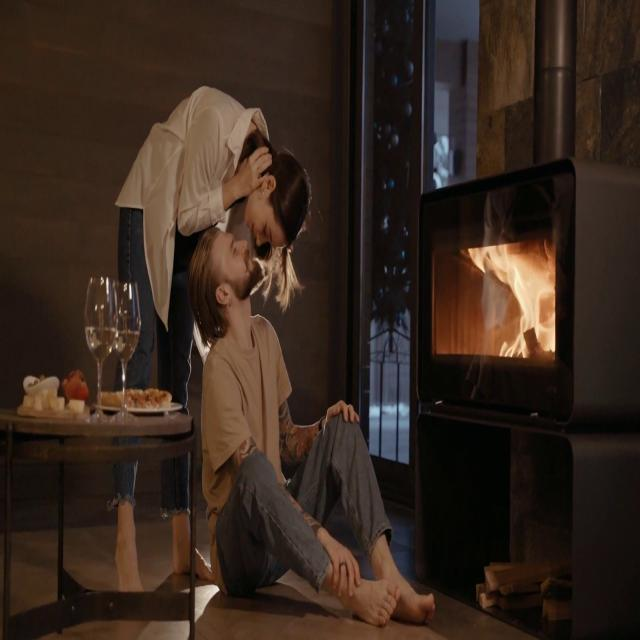Fire: (476, 238, 558, 358)
